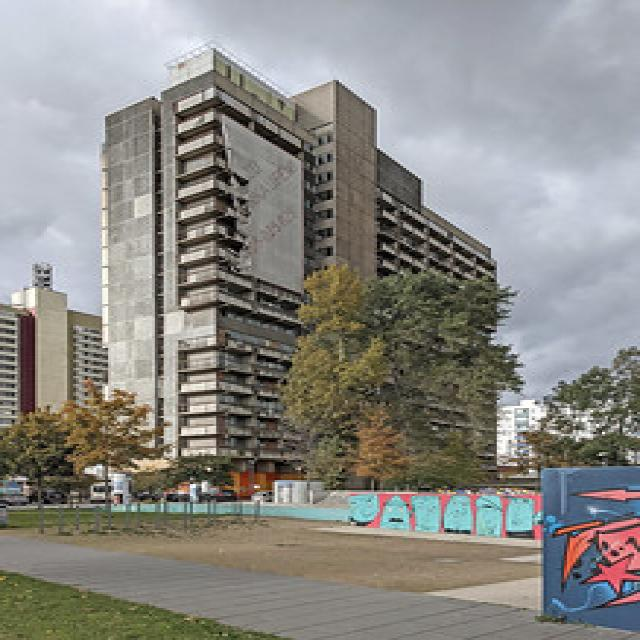Normal_building: (80, 36, 507, 496)
